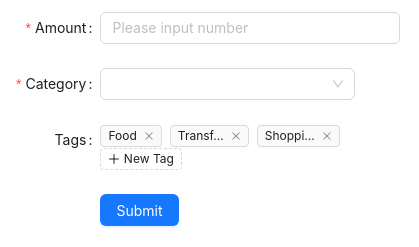
Test: InputAmount › should show message when no number input
Type "test 1" into the number field labelled "Amount" at (250, 28), box x1=102 y1=13 x2=400 y2=43
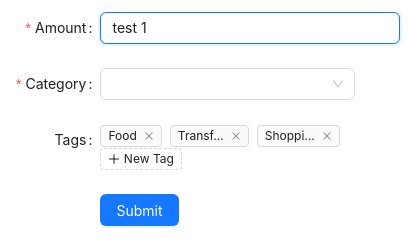
Click the dropdown labelled "Category" at (58, 84), box x1=16 y1=68 x2=100 y2=100
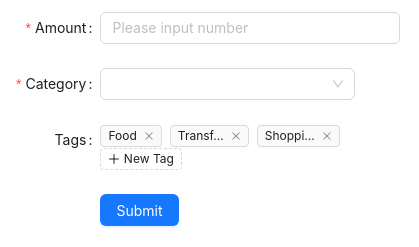
Click the button "Submit" at (140, 210), box x1=100 y1=194 x2=179 y2=226
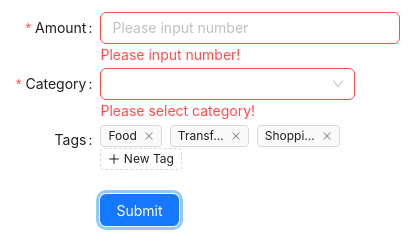
Expected: the text "Please input number!" is shown, x1=100 y1=46 x2=240 y2=63
